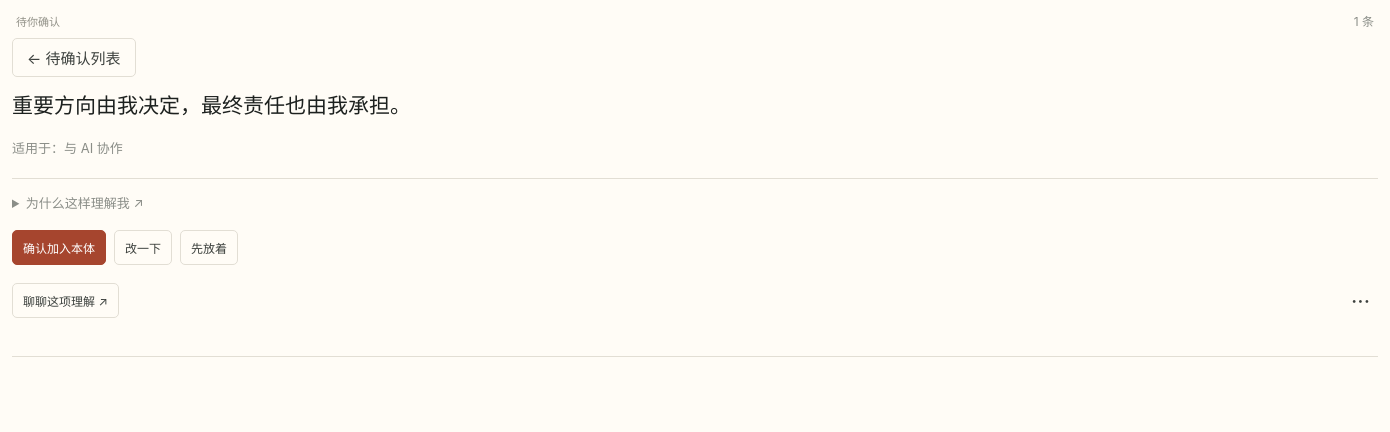
Test case: editing a candidate never implicitly admits it
This screenshot has width=1390, height=432.
Click the button "改一下" at (143, 248), box [114,230,172,265]
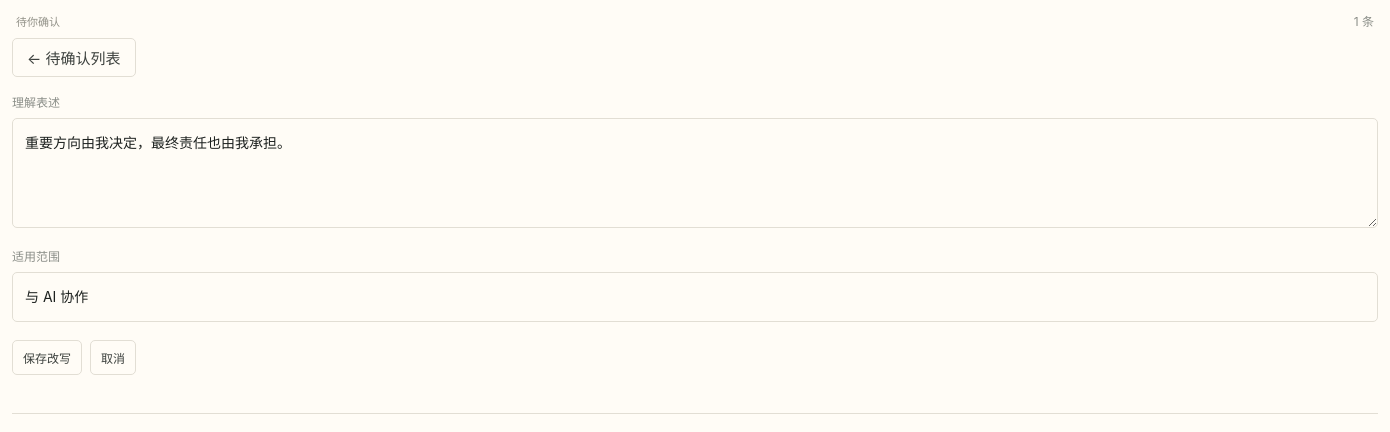
Replace the text in the text box named "候选表述" with "我希望保留最终决定权" at (695, 173), box [12,118,1378,228]
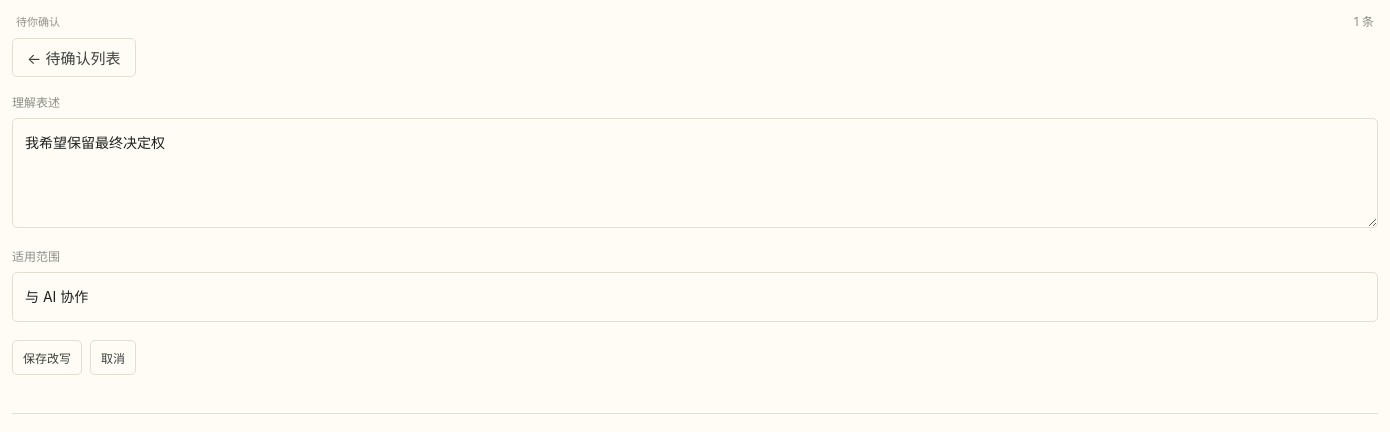
Click the button "保存改写" at (47, 357), box [12,340,82,375]
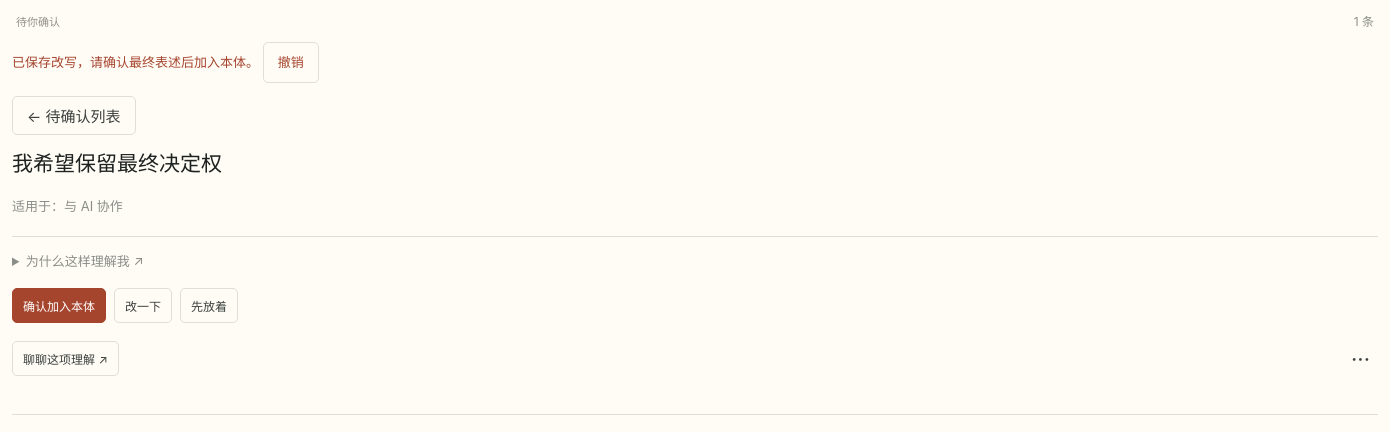
Now the text "已保存改写，请确认最终表述后加入本体。" is shown, box [12,54,259,70]
Now the button "确认加入本体" is shown, box [12,288,106,323]
